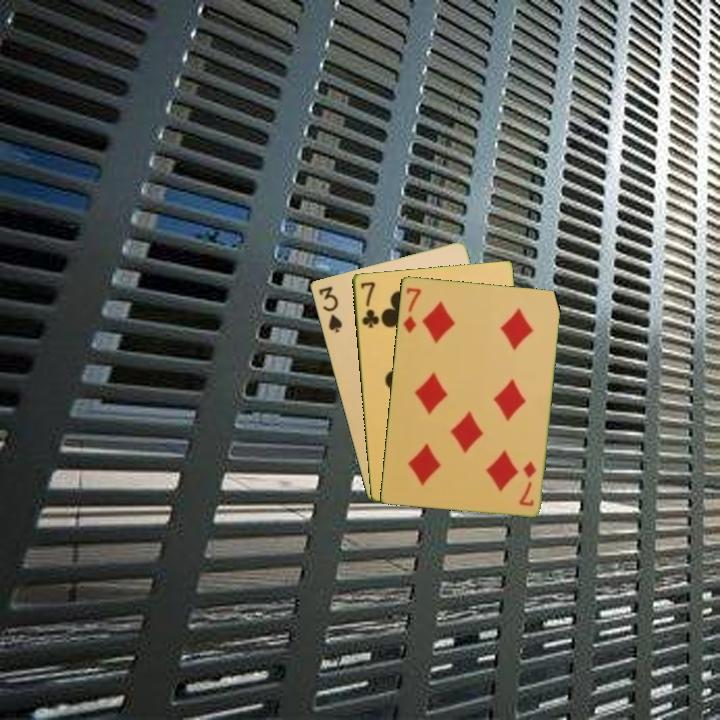3s: (315, 282, 345, 335)
7c: (357, 278, 381, 331)
7d: (399, 283, 424, 335), (516, 457, 539, 508)
